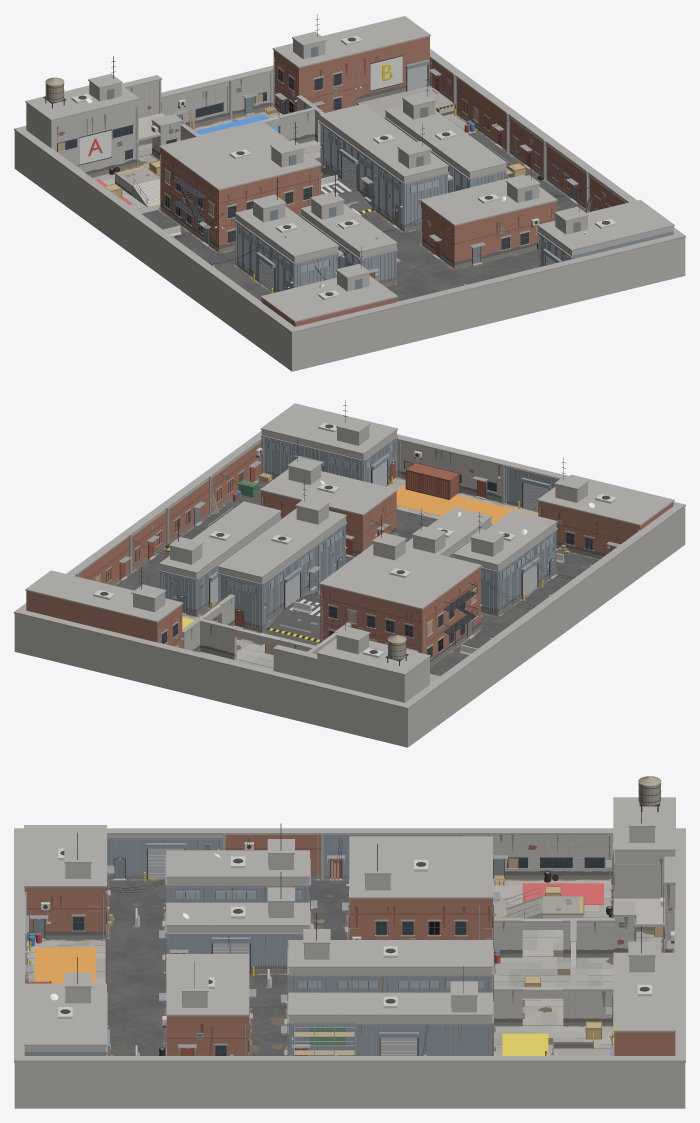
The picture shows the model from 3 angles, top to bottom: view 1: azimuth 30°, elevation 25°; view 2: azimuth 150°, elevation 25°; view 3: azimuth 270°, elevation 25°; orthographic projection. The views are drawn at different scales.
Parts seen in each view (by area): view 1: Wall_Perimeter_South, Wall_Perimeter_West, Bldg_LeftMid_North_Detail, Bldg_RightMid_North_W_Detail, Bldg_Perimeter_East_Detail, Ground_Asphalt_Surface, Bldg_LeftMid_South_W_Detail, Bldg_B_Back_Detail, Bldg_RightMid_South_Detail, Bldg_ATK_Spawn_East_Detail, Bldg_RightMid_North_E_Detail, Bldg_ATK_Spawn_West_Detail (+25 smaller); view 2: Wall_Perimeter_North, Bldg_LeftMid_North_Detail, Wall_Perimeter_West, Bldg_RightMid_North_W_Detail, Bldg_Perimeter_East_Detail, Bldg_ATK_Spawn_East_Detail, Bldg_LeftMid_South_W_Detail, Bldg_RightMid_North_E_Detail, Ground_Asphalt_Surface, Bldg_ATK_Spawn_West_Detail, Bldg_RightMid_South_Detail, Bldg_B_Back_Detail (+23 smaller); view 3: Wall_Perimeter_East, Ground_Asphalt_Surface, Bldg_Perimeter_West_Detail, Bldg_LeftMid_North_Detail, Bldg_RightMid_North_E_Detail, Bldg_RightMid_North_W_Detail, Ground_Concrete_Slabs, Bldg_ATK_Spawn_West_Detail, Bldg_LeftMid_South_E_Detail, Bldg_LeftMid_South_W_Detail, Bldg_RightMid_South_Detail, Bldg_ATK_Spawn_East_Detail (+36 smaller).
Boxes of the visible parts, <box> form: Wall_Perimeter_South: <box>288,238,685,371</box>; Wall_Perimeter_West: <box>19,134,287,368</box>; Bldg_LeftMid_North_Detail: <box>158,121,321,252</box>; Bldg_RightMid_North_W_Detail: <box>319,103,449,231</box>; Bldg_Perimeter_East_Detail: <box>428,49,681,234</box>; Ground_Asphalt_Surface: <box>142,132,587,301</box>; Bldg_LeftMid_South_W_Detail: <box>234,177,339,293</box>; Bldg_B_Back_Detail: <box>272,14,430,115</box>; Bldg_RightMid_South_Detail: <box>419,158,557,268</box>; Bldg_ATK_Spawn_East_Detail: <box>537,189,674,267</box>; Bldg_RightMid_North_E_Detail: <box>384,74,507,192</box>; Bldg_ATK_Spawn_West_Detail: <box>260,246,397,326</box>; Wall_Perimeter_North: <box>14,613,411,747</box>; Bldg_LeftMid_North_Detail: <box>319,515,482,665</box>; Wall_Perimeter_West: <box>412,510,680,744</box>; Bldg_RightMid_North_W_Detail: <box>216,479,347,632</box>; Bldg_Perimeter_East_Detail: <box>19,431,262,610</box>; Bldg_ATK_Spawn_East_Detail: <box>260,400,398,486</box>; Bldg_LeftMid_South_W_Detail: <box>453,510,557,616</box>; Bldg_RightMid_North_E_Detail: <box>159,501,281,616</box>; Ground_Asphalt_Surface: <box>116,480,598,675</box>; Bldg_ATK_Spawn_West_Detail: <box>537,457,674,559</box>; Bldg_RightMid_South_Detail: <box>260,439,397,557</box>; Bldg_B_Back_Detail: <box>25,566,183,647</box>; Wall_Perimeter_East: <box>24,1062,675,1108</box>; Ground_Asphalt_Surface: <box>106,880,349,1055</box>; Bldg_Perimeter_West_Detail: <box>107,828,613,881</box>; Bldg_LeftMid_North_Detail: <box>342,836,500,972</box>; Bldg_RightMid_North_E_Detail: <box>281,966,496,1055</box>; Bldg_RightMid_North_W_Detail: <box>281,913,495,1033</box>; Ground_Concrete_Slabs: <box>27,880,662,1055</box>; Bldg_ATK_Spawn_West_Detail: <box>24,825,114,941</box>; Bldg_LeftMid_South_E_Detail: <box>159,872,310,976</box>; Bldg_LeftMid_South_W_Detail: <box>162,823,317,938</box>; Bldg_RightMid_South_Detail: <box>159,954,256,1055</box>; Bldg_ATK_Spawn_East_Detail: <box>24,957,112,1055</box>.
Bounding box in the file's own units: 54.12 × 14.7 × 66.12.
